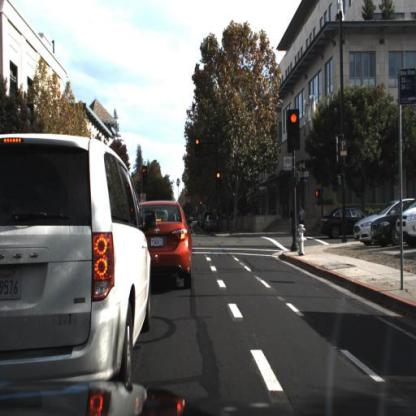car: (1, 134, 155, 394), (139, 196, 195, 288), (353, 200, 400, 247), (369, 204, 415, 250), (318, 207, 373, 242), (373, 212, 400, 248), (396, 201, 416, 245), (354, 217, 372, 246), (207, 216, 220, 233)
pedestrian: (299, 204, 308, 236), (289, 206, 298, 233), (290, 206, 295, 235), (300, 205, 306, 228)
trafficLight-Red: (286, 108, 304, 159), (215, 169, 223, 191), (195, 138, 202, 161)
trafficLight-RedLeft: (141, 170, 149, 194)
